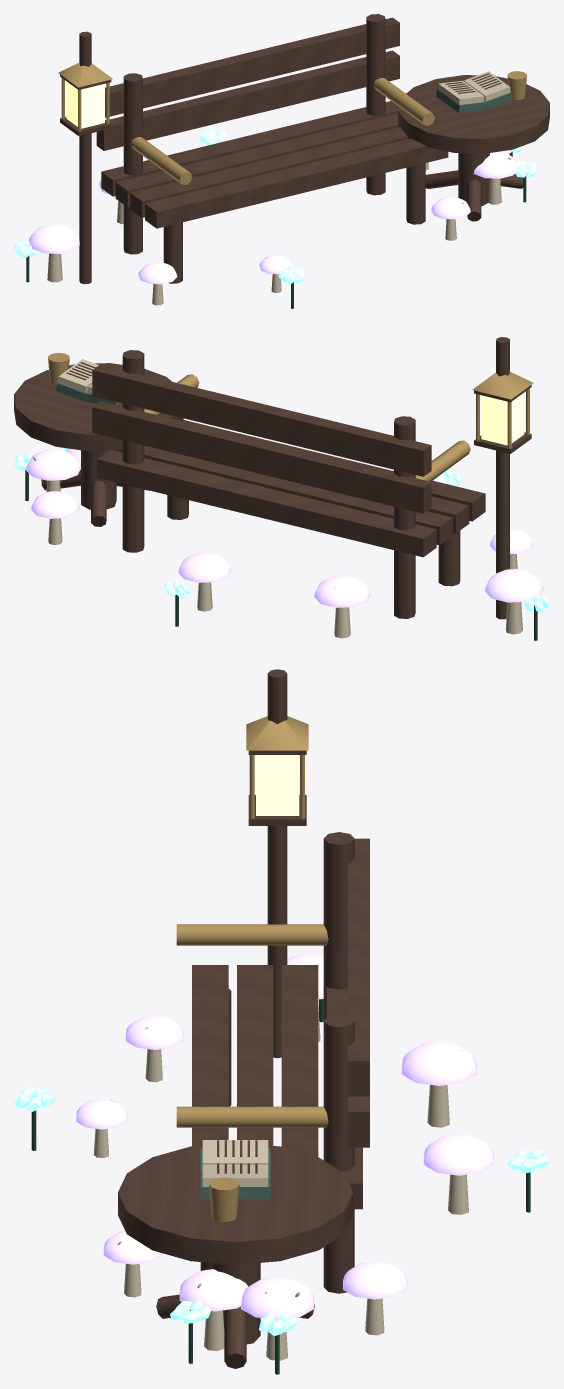
Rendered from heiter-resting-area.glb.
3 renders of one model, top to bottom at view 1: azimuth 30°, elevation 25°; view 2: azimuth 150°, elevation 25°; view 3: azimuth 270°, elevation 25°, orthographic. The views are drawn at different scales.
Visible parts, largest first — view 1: HeiterRestingArea_wood, HeiterRestingArea_rune, HeiterRestingArea_gold, HeiterRestingArea_paper, HeiterRestingArea_flame, HeiterRestingArea_glow, HeiterRestingArea_green; view 2: HeiterRestingArea_wood, HeiterRestingArea_rune, HeiterRestingArea_gold, HeiterRestingArea_paper, HeiterRestingArea_flame, HeiterRestingArea_glow, HeiterRestingArea_green, HeiterRestingArea_leafDark; view 3: HeiterRestingArea_wood, HeiterRestingArea_rune, HeiterRestingArea_gold, HeiterRestingArea_paper, HeiterRestingArea_glow, HeiterRestingArea_flame, HeiterRestingArea_leafDark.
Boxes of the visible parts, x1,y1,x2,y2 form: HeiterRestingArea_wood: (60, 14, 549, 284); HeiterRestingArea_rune: (28, 138, 517, 284); HeiterRestingArea_gold: (58, 62, 526, 184); HeiterRestingArea_paper: (47, 71, 511, 305); HeiterRestingArea_flame: (66, 81, 104, 128); HeiterRestingArea_glow: (14, 129, 537, 284); HeiterRestingArea_green: (436, 89, 512, 112); HeiterRestingArea_wood: (14, 337, 531, 619); HeiterRestingArea_rune: (26, 448, 543, 607); HeiterRestingArea_gold: (48, 352, 533, 481); HeiterRestingArea_paper: (33, 359, 522, 638); HeiterRestingArea_flame: (481, 393, 524, 445); HeiterRestingArea_glow: (14, 447, 549, 613); HeiterRestingArea_green: (56, 382, 119, 404); HeiterRestingArea_leafDark: (25, 470, 537, 640); HeiterRestingArea_wood: (118, 669, 369, 1368); HeiterRestingArea_rune: (76, 954, 493, 1320); HeiterRestingArea_gold: (176, 716, 328, 1221); HeiterRestingArea_paper: (93, 1006, 468, 1360); HeiterRestingArea_glow: (14, 1086, 549, 1336); HeiterRestingArea_flame: (256, 755, 299, 815); HeiterRestingArea_leafDark: (31, 999, 530, 1374).
Size of the model in its own units: 3.15 by 1.5 by 1.91.
8 materials, 1 textured.
